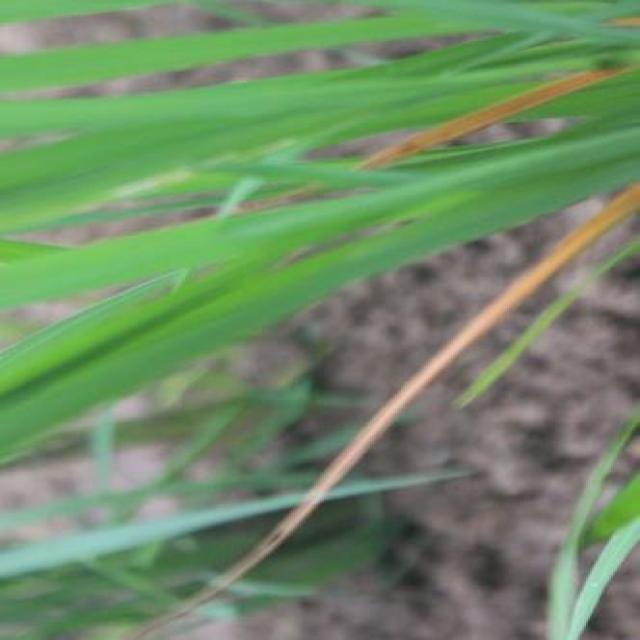Rice Tungro: (424, 237, 613, 375), (293, 402, 441, 476)
